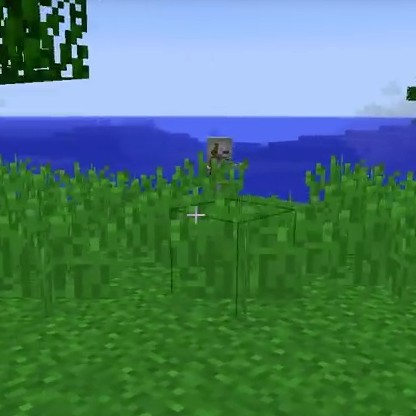skeleton: (204, 136, 232, 161)
